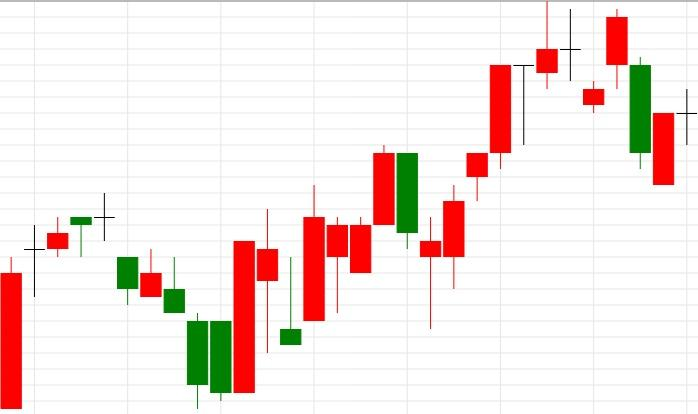inverse_hammer_rise: (233, 208, 302, 393)
shooting_star_fall: (419, 0, 559, 329)
